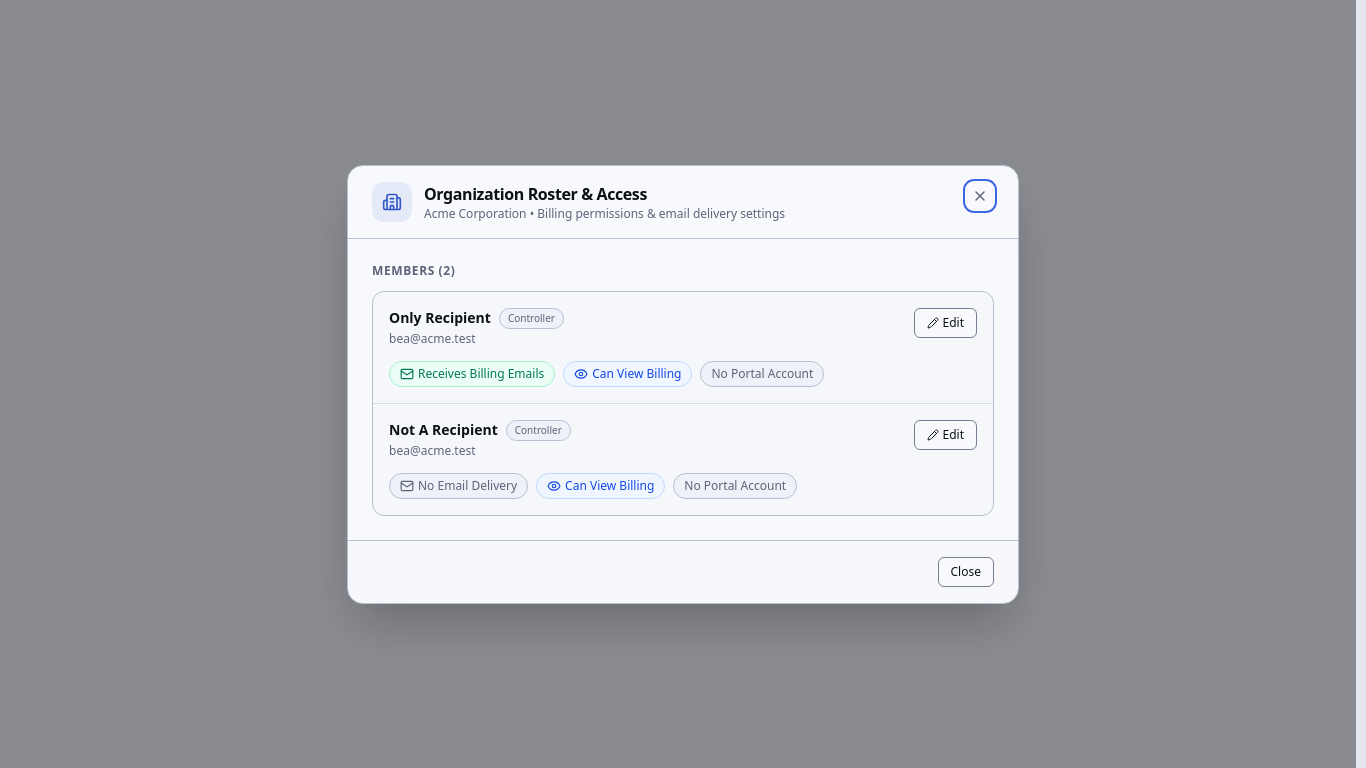
Scenario: OrgAccessModal, last billing recipient › warns before clearing the organization's only email recipient
Expected: the text "Only Recipient" is shown, [389, 308, 491, 328]
Click the button "Edit" in the row of "Only Recipient" at (945, 322), box [914, 308, 977, 338]
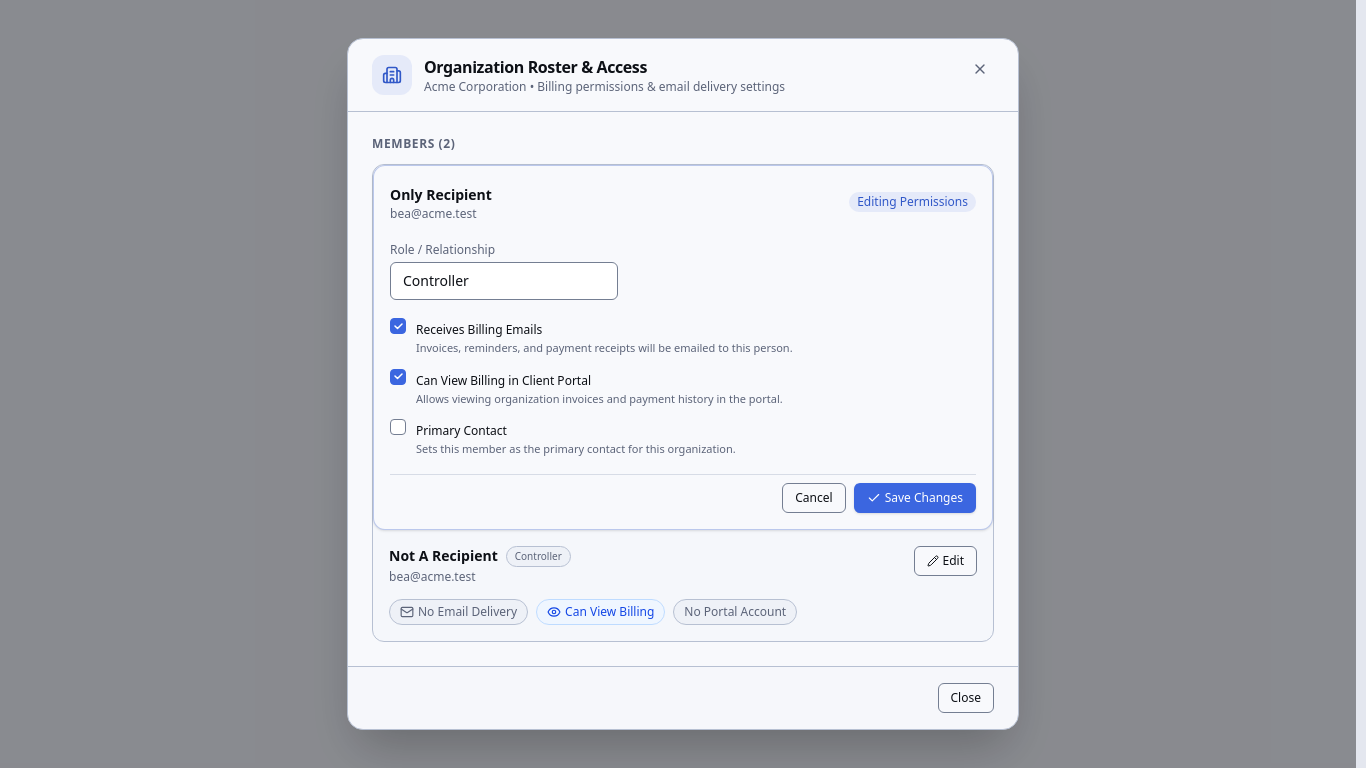
Expected: the checkbox that starts with "Receives Billing Emails" is shown
Click the checkbox that starts with "Receives Billing Emails" at (479, 330), box [390, 318, 793, 355]
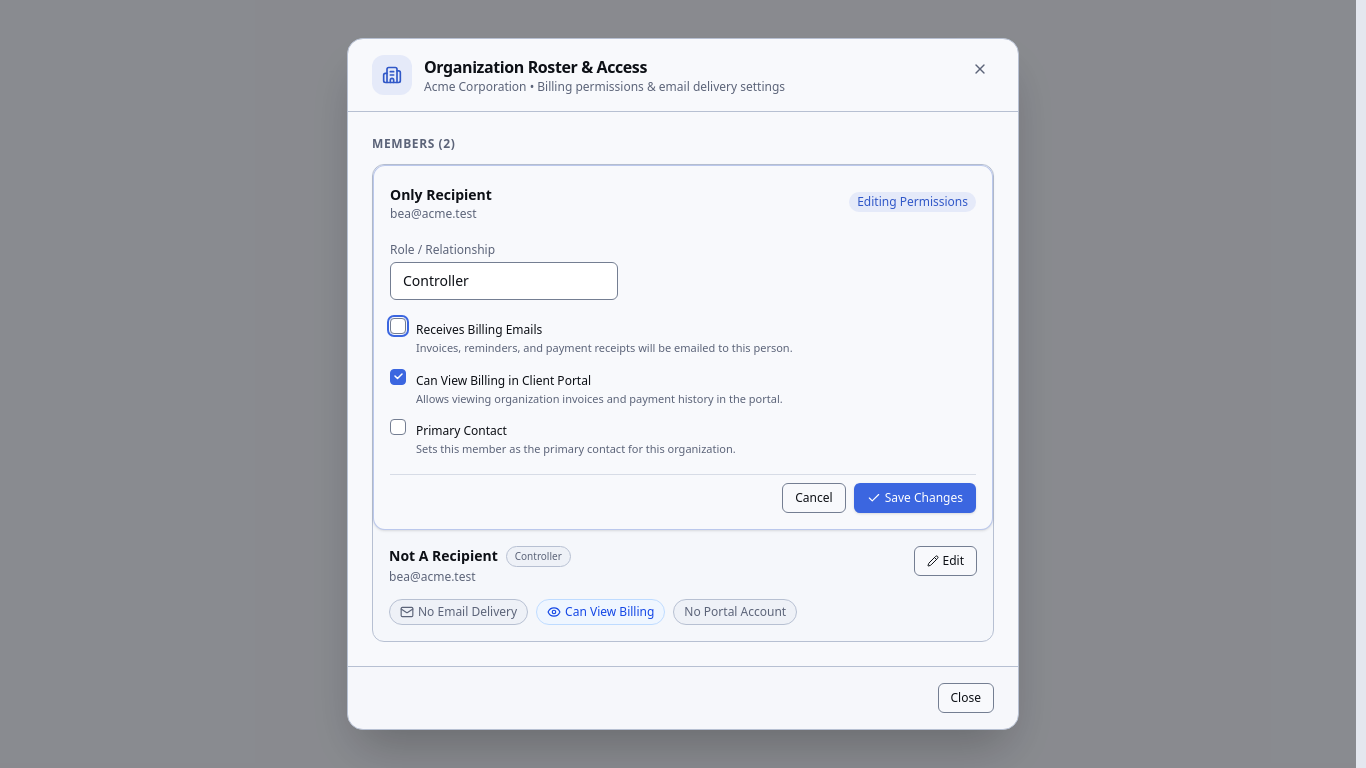
Click the button "Save Changes" at (915, 498), box [854, 483, 976, 513]
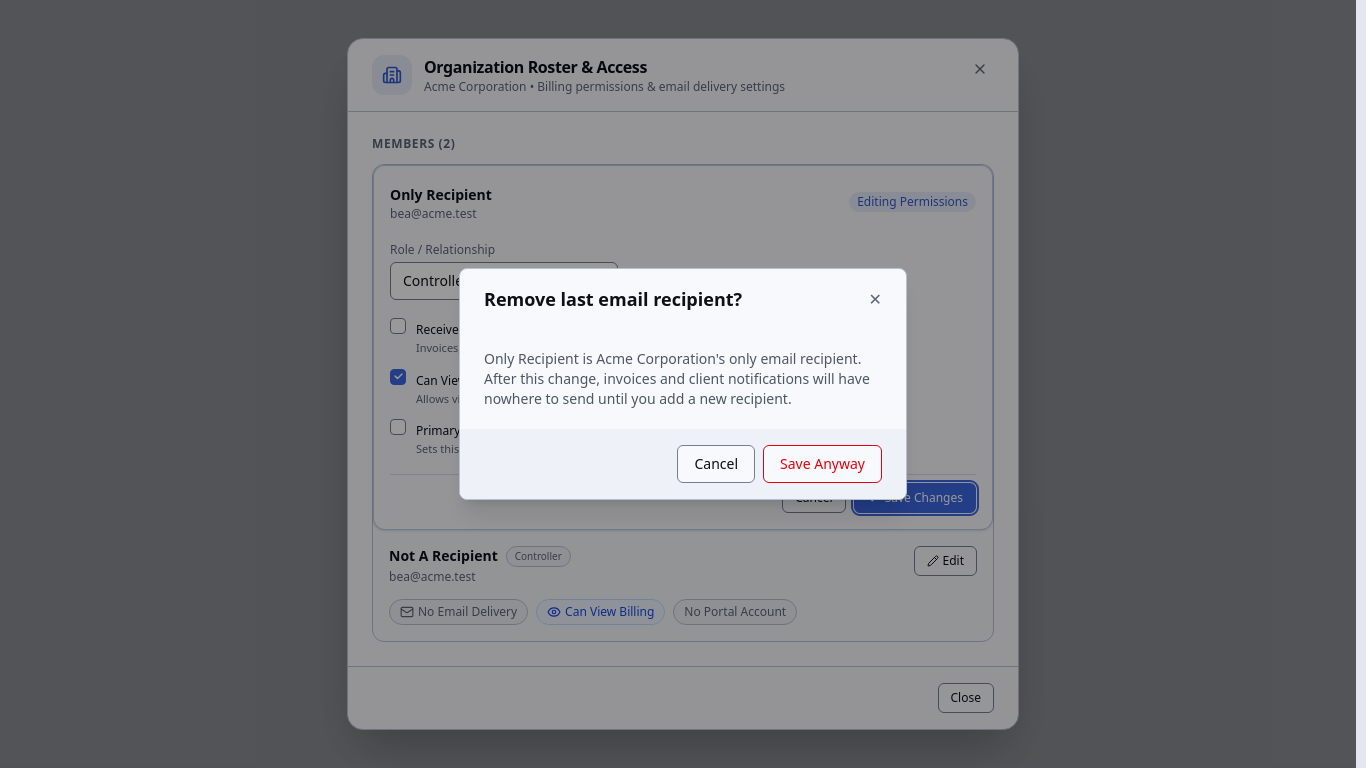
Expected: the text "nowhere to send" is shown, [484, 349, 870, 408]
